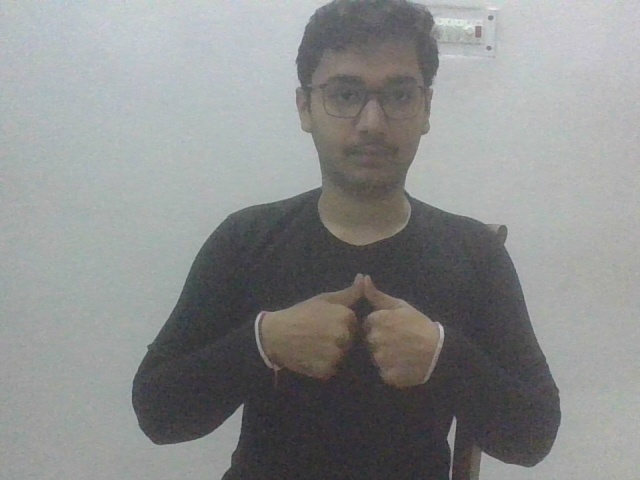A: (252, 270, 446, 403)
